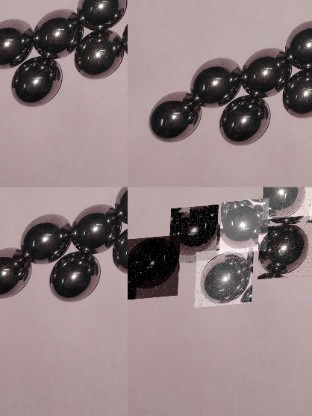ironball: (127, 236, 182, 300), (196, 250, 254, 309), (228, 43, 291, 96), (42, 248, 101, 303), (260, 225, 312, 283), (170, 206, 220, 265), (17, 209, 76, 259), (28, 5, 82, 59), (220, 201, 271, 257), (72, 27, 123, 82), (144, 90, 200, 140), (219, 95, 272, 146), (69, 203, 123, 251), (12, 60, 60, 111), (191, 57, 237, 104), (0, 13, 37, 70), (0, 244, 33, 299), (278, 70, 312, 123), (264, 187, 312, 223), (74, 0, 125, 33), (285, 20, 310, 70)
